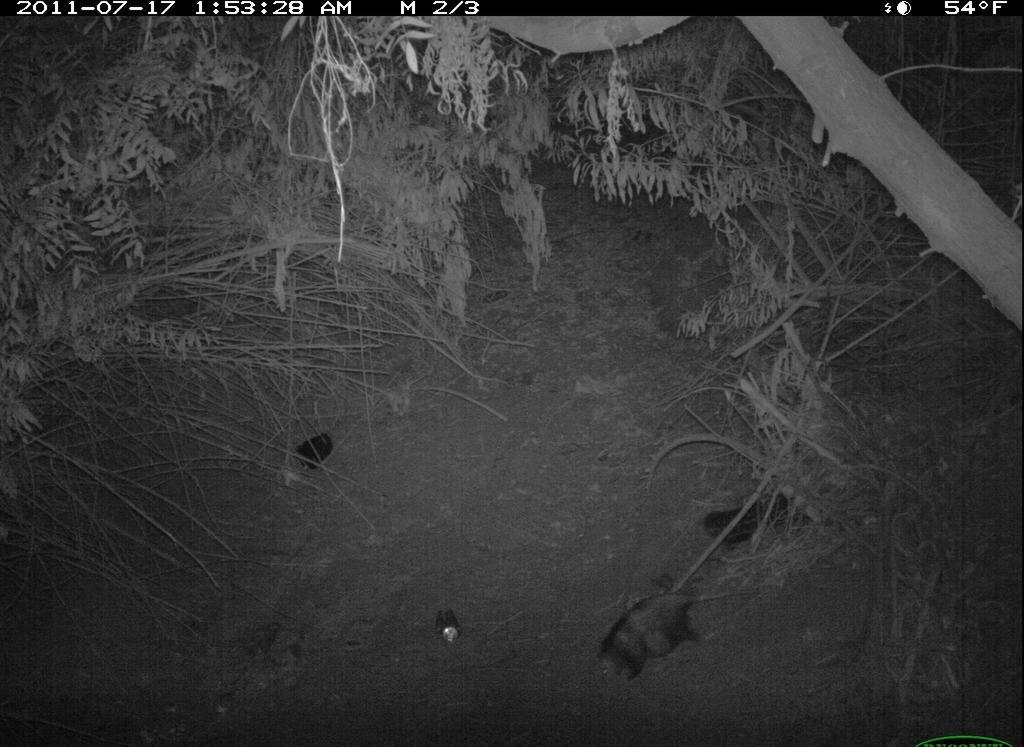opossum: (578, 575, 729, 690)
